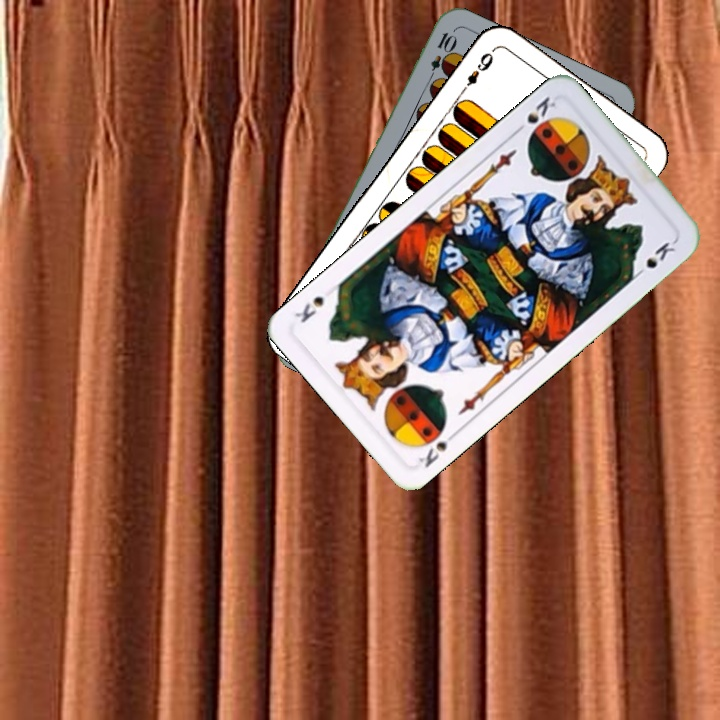E10: (423, 28, 458, 86)
E9: (456, 48, 496, 97)
SK: (510, 92, 561, 137), (415, 426, 462, 471)
